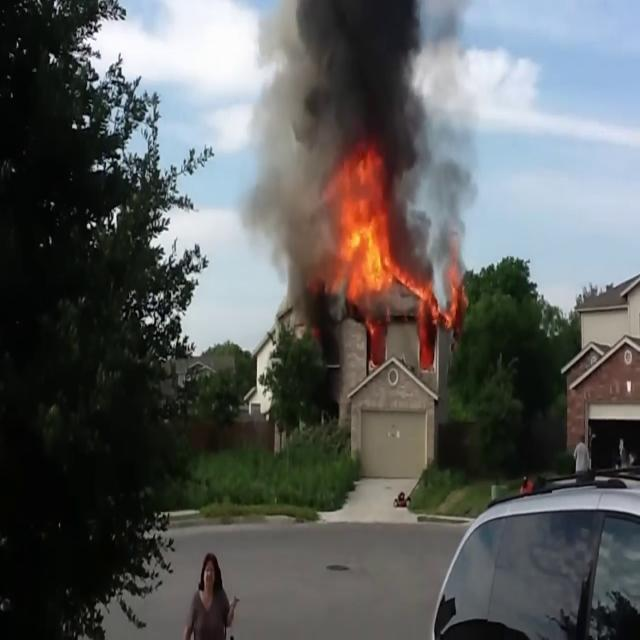Fire: (323, 150, 401, 300), (442, 264, 464, 331)
Smoke: (238, 0, 464, 254), (242, 136, 342, 380), (418, 127, 478, 281)
